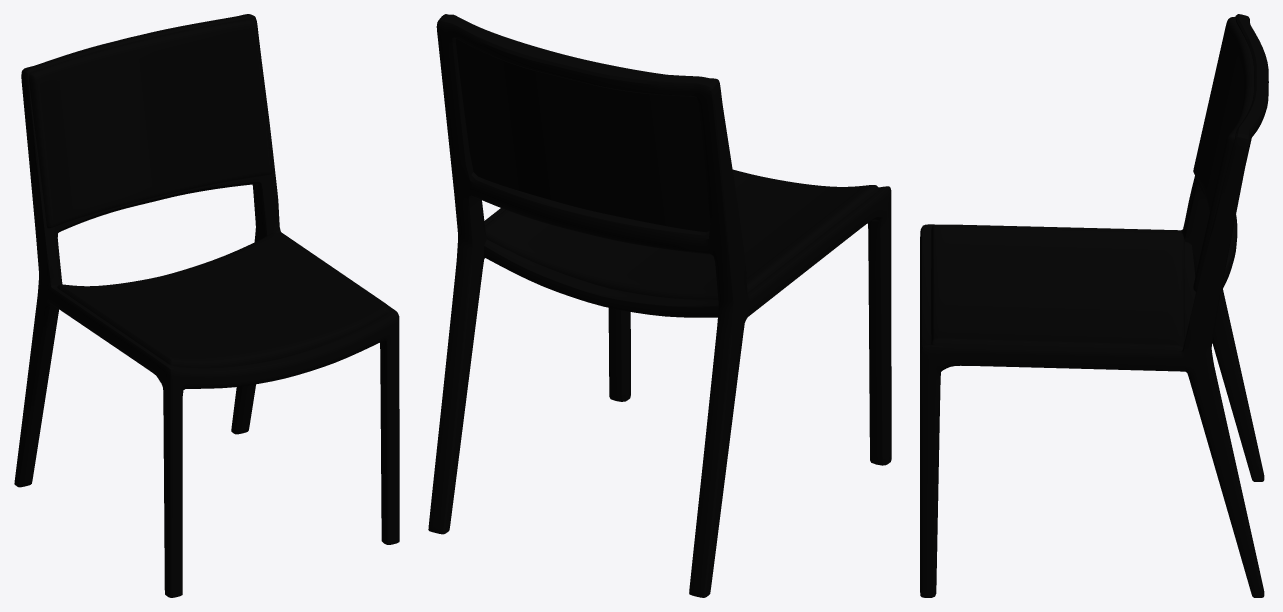
The model's file is chr2.glb.
3 renders of one model, left to right at view 1: azimuth 30°, elevation 25°; view 2: azimuth 150°, elevation 25°; view 3: azimuth 270°, elevation 25°, orthographic. The views are drawn at different scales.
Visible parts, largest first — view 1: Porto chair; view 2: Porto chair; view 3: Porto chair.
Part boxes in pixels (left/top/right/bottom): Porto chair: left=14, top=14, right=399, bottom=597; Porto chair: left=428, top=14, right=891, bottom=597; Porto chair: left=920, top=14, right=1268, bottom=597.
Size of the model in its own units: 0.2199 by 0.3839 by 0.262.
Materials: 1 (1 with a texture image).
